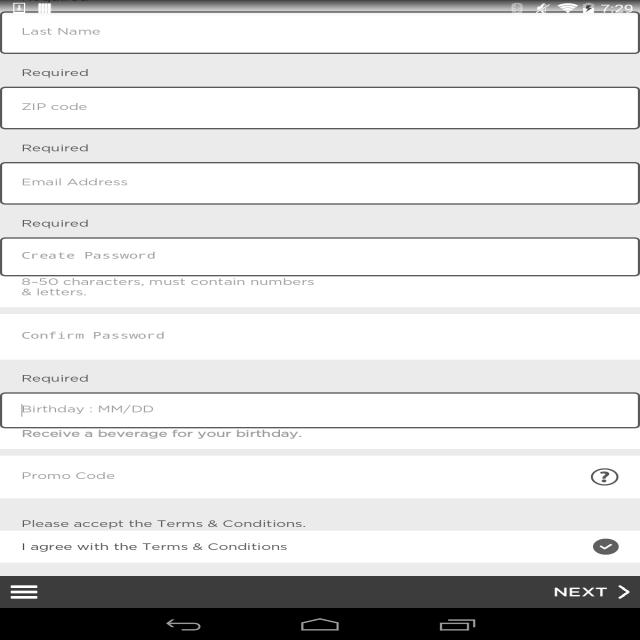CheckBox: (593, 538, 619, 554)
EditText: (21, 242, 619, 272), (21, 322, 619, 352), (21, 19, 619, 46), (21, 170, 619, 197), (21, 397, 619, 424), (21, 95, 619, 121), (21, 464, 619, 490)
ImageView: (591, 464, 619, 490), (11, 585, 37, 599), (619, 585, 629, 599)
TextView: (0, 276, 640, 308), (0, 428, 640, 449), (0, 518, 306, 529), (21, 541, 288, 552), (0, 60, 110, 86), (0, 136, 110, 162), (0, 211, 110, 237), (0, 366, 110, 392), (0, 0, 110, 11), (553, 585, 608, 599)
